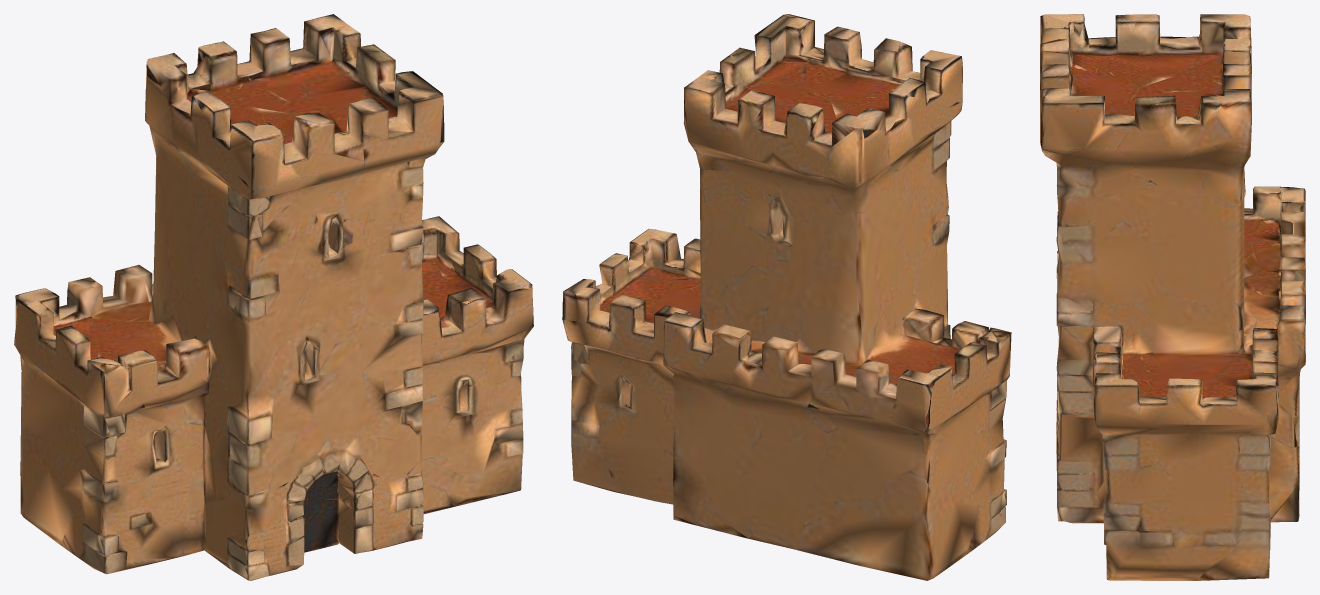
The model's file is castello_b.glb.
3 renders of one model, left to right at view 1: azimuth 30°, elevation 25°; view 2: azimuth 150°, elevation 25°; view 3: azimuth 270°, elevation 25°, orthographic. The views are drawn at different scales.
Bounding box in the file's own units: 1.82 × 1.9 × 1.07.
Materials: 1 (1 with a texture image).
